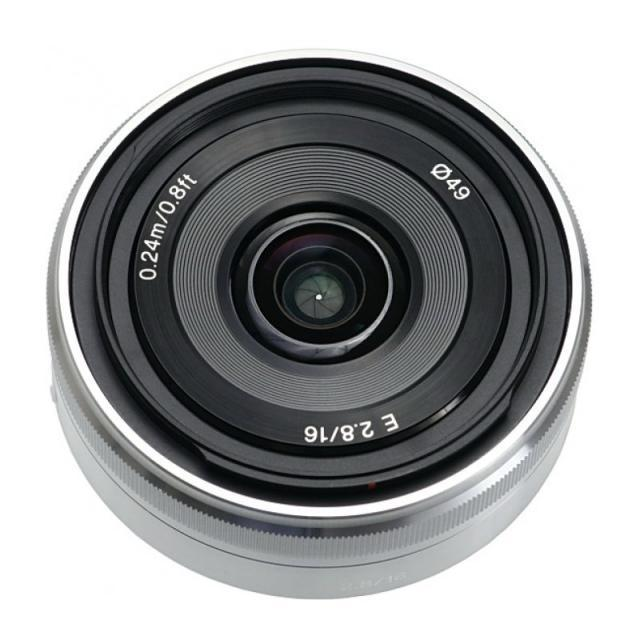hidden camera: (232, 206, 409, 376)
